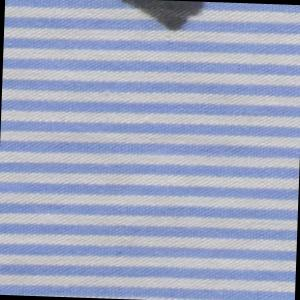Stain: (118, 1, 210, 39)
